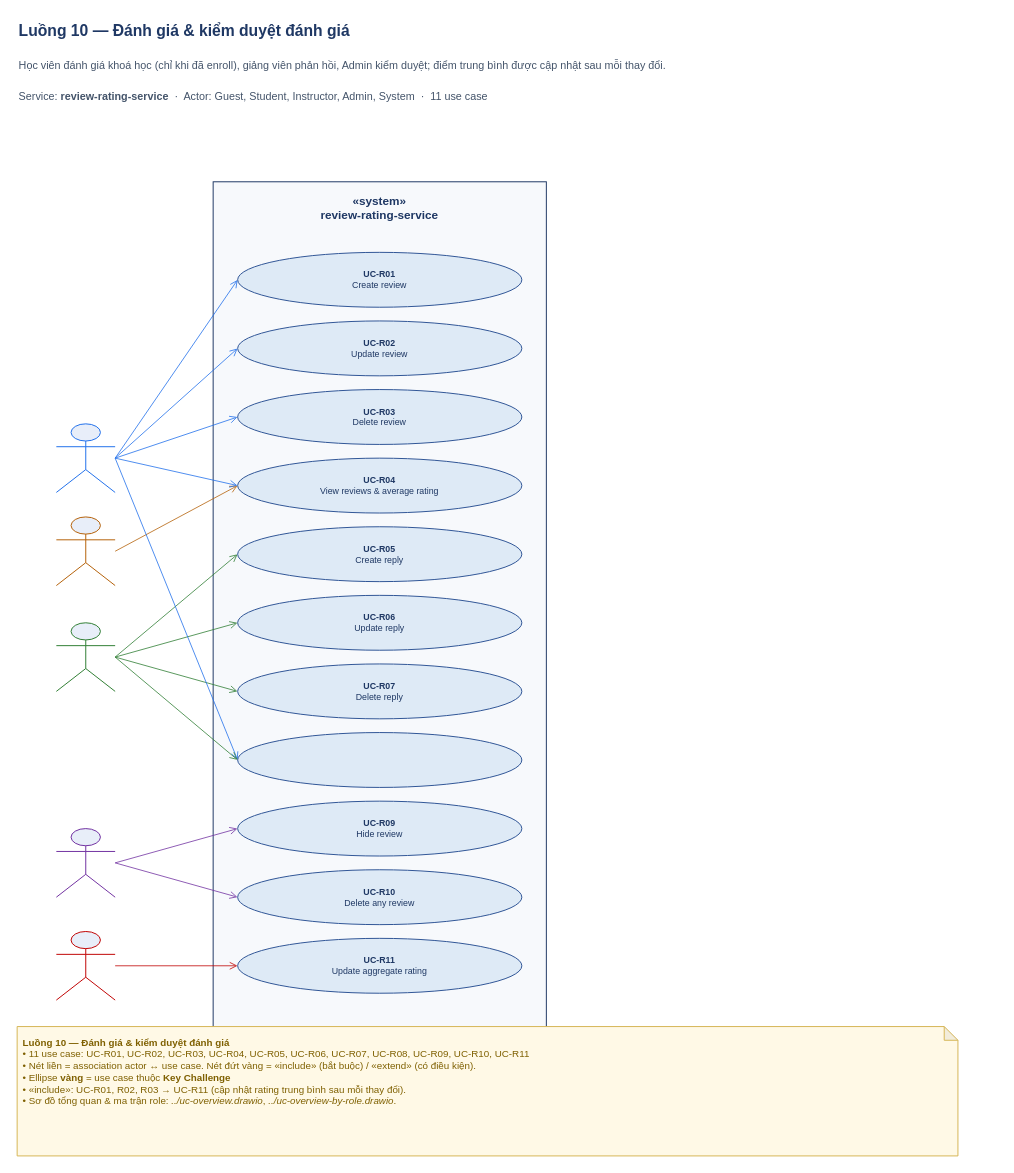
Image size: 1014x1173. Some labels were removed from this diagram. Each missing label, with the centre of its shape:
Admin: the point at 85,862
Guest: the point at 85,551
Instructor: the point at 85,656
Student: the point at 85,457
System: the point at 85,965
UC-R08 Report review: the point at 379,759
